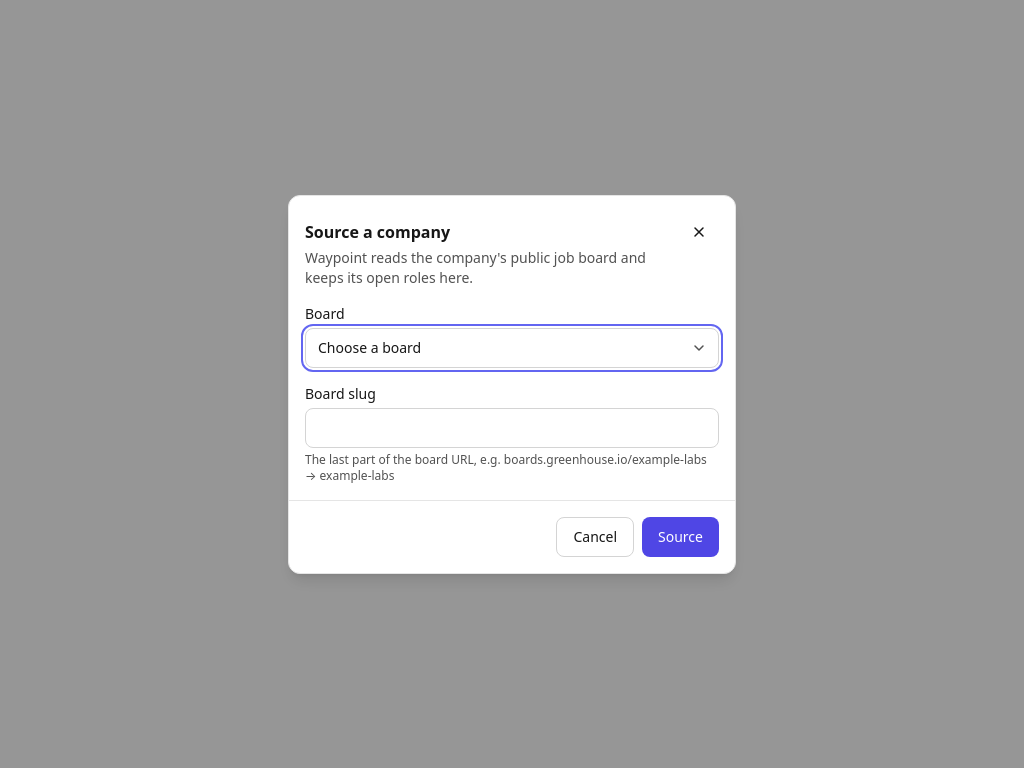
Test: SourceCompanyDialog › shows the error inline on a network error and stays open
Select "Ashby" in the dropdown labelled "Board" at (512, 348), box [305,328,719,368]
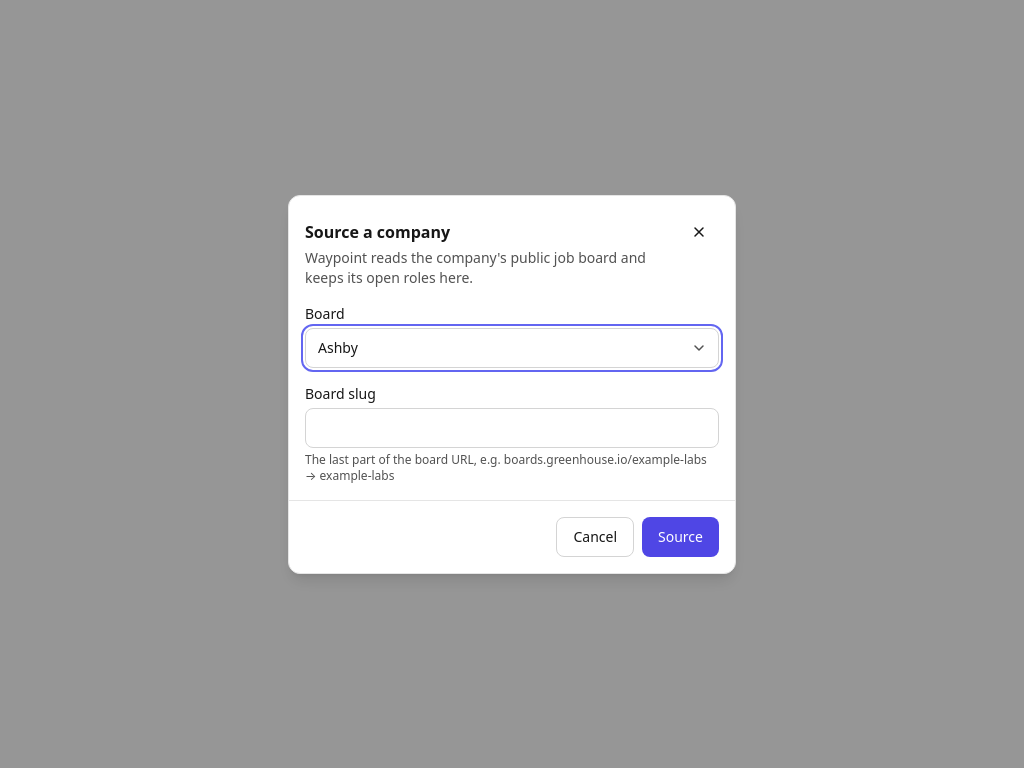
Type "example-labs" into the field labelled "Board slug" at (512, 428), box [305,408,719,448]
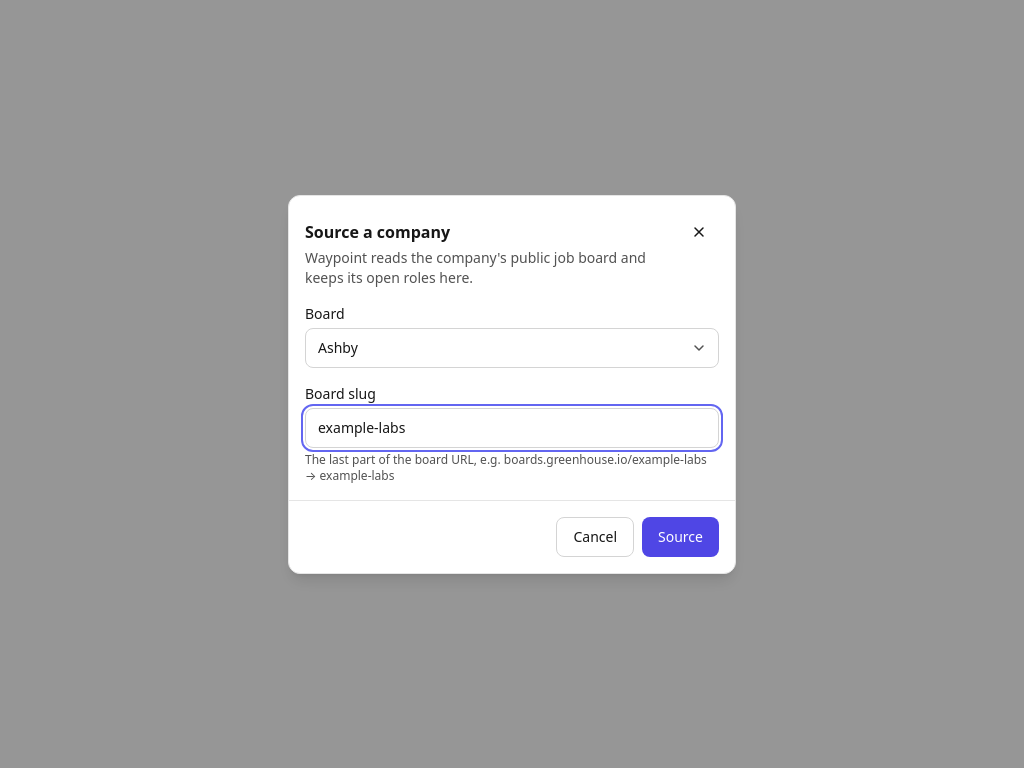
Click the button "Source" at (681, 536), box [642,516,719,556]
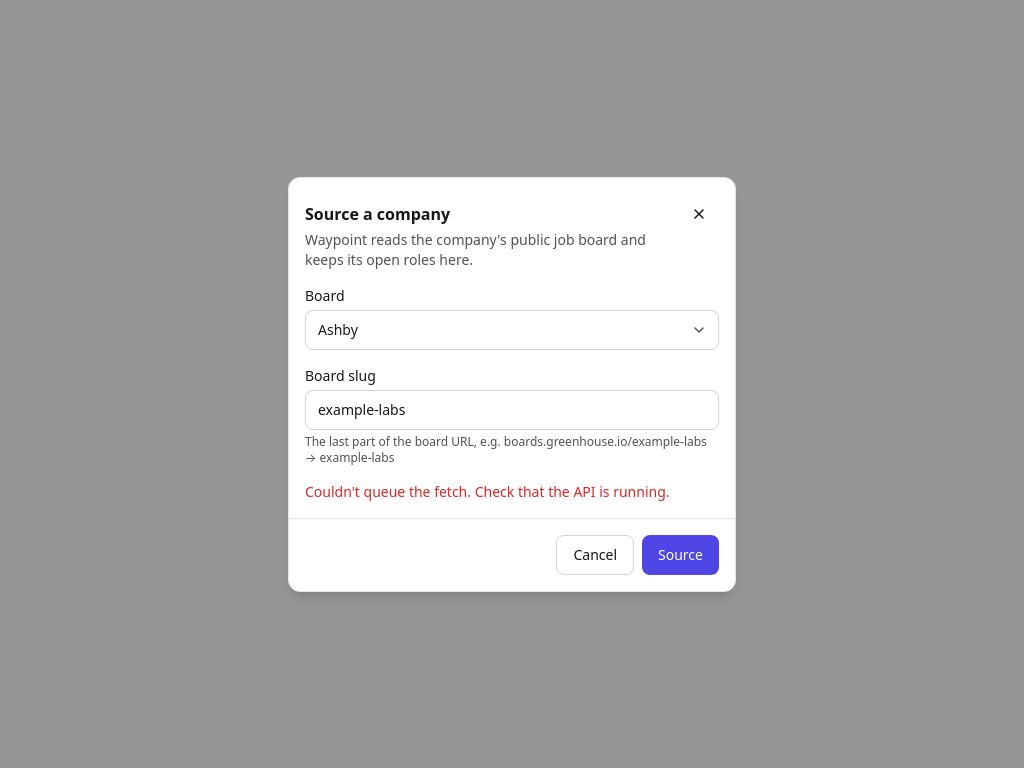
Expected: the button "Source" is enabled, [642,534,719,574]
Expected: the message reads "Couldn't queue the fetch. Check that the API is running.", [305,482,670,500]
